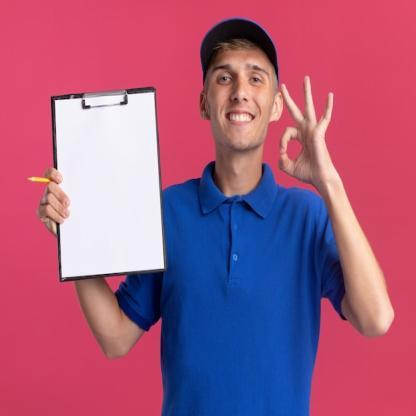ok: (277, 76, 337, 184)
